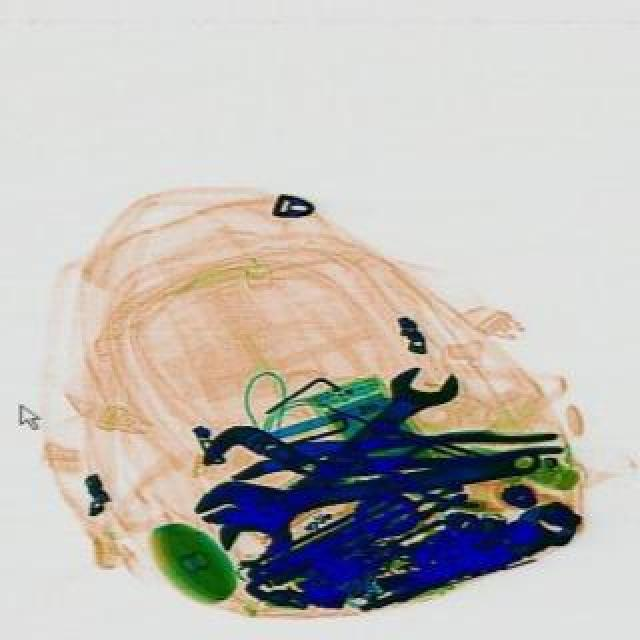scissors: (210, 344, 468, 576), (186, 428, 544, 544)
